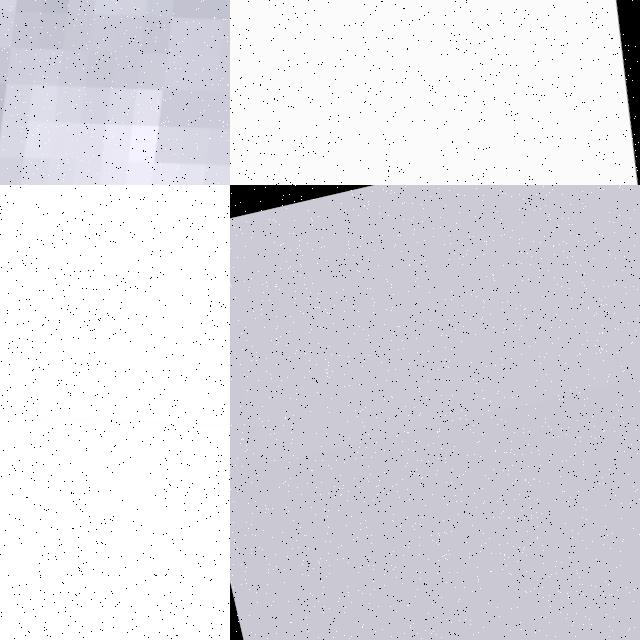0: (0, 0, 230, 185)
drone: (0, 185, 230, 640), (230, 0, 640, 185)
